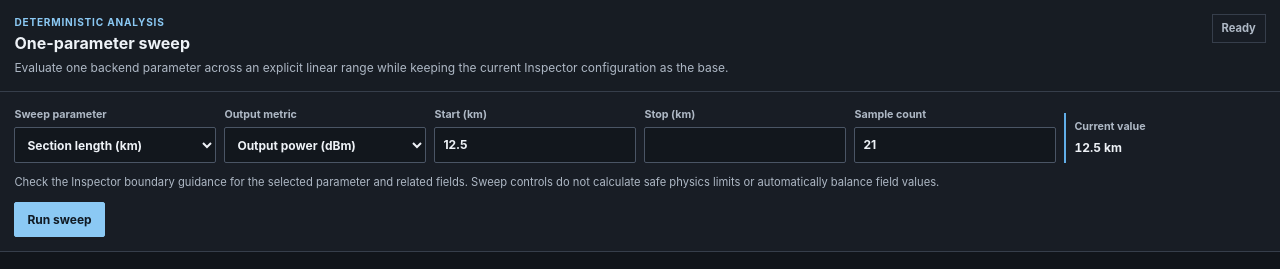
Test case: SweepWorkspace › reports local range errors without making a request
This screenshot has width=1280, height=269.
Click the button "Run sweep" at (60, 220), box [14,202,105,237]
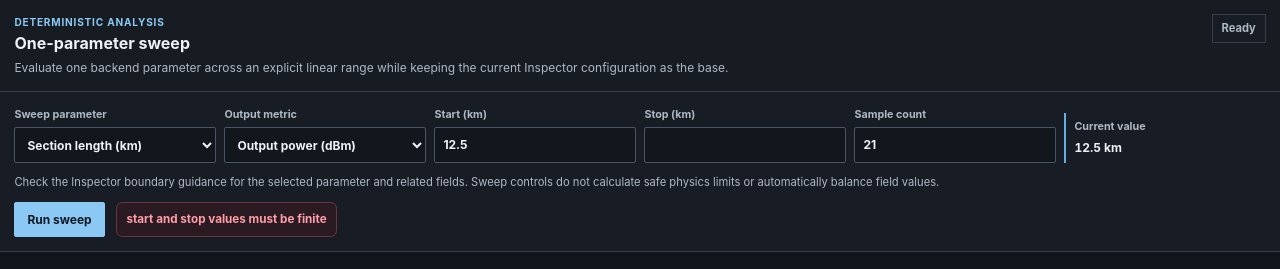
Check: the message "start and stop values must be finite" is shown, box [116,202,337,237]
